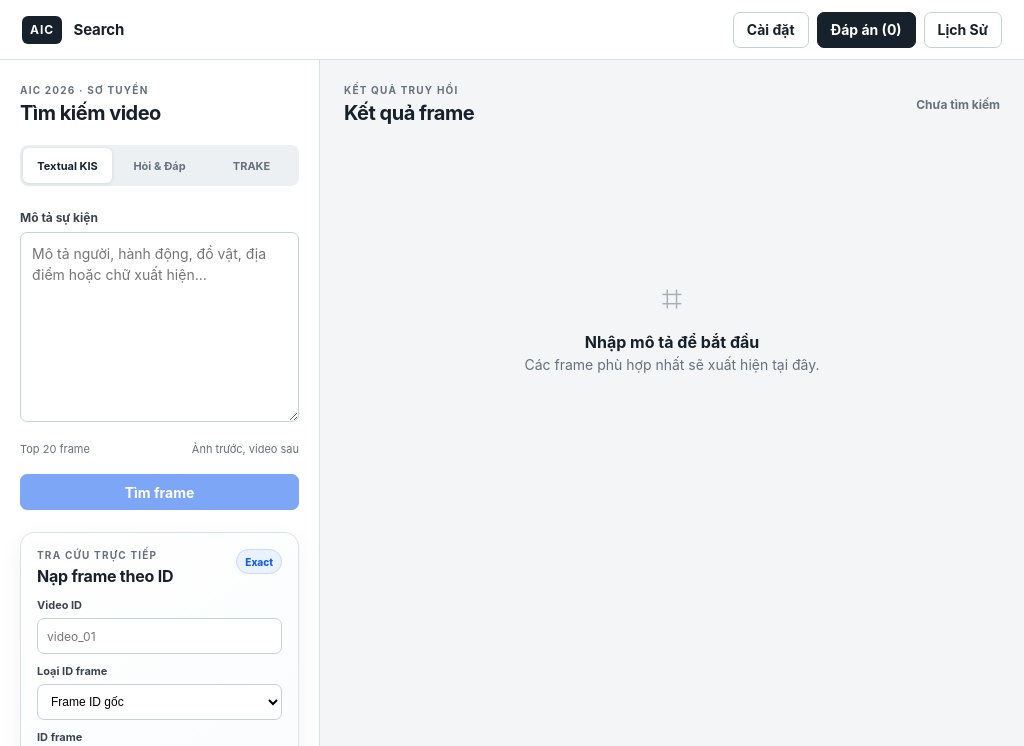
Test: qualification frame-first workbench › keeps a separate workspace when switching between tasks
This screenshot has width=1024, height=746.
Type "Một cửa hàng trên phố" into the text box labelled "Mô tả sự kiện".
click(160, 327); type("Một cửa hàng trên phố")  # box [20,232,299,422]
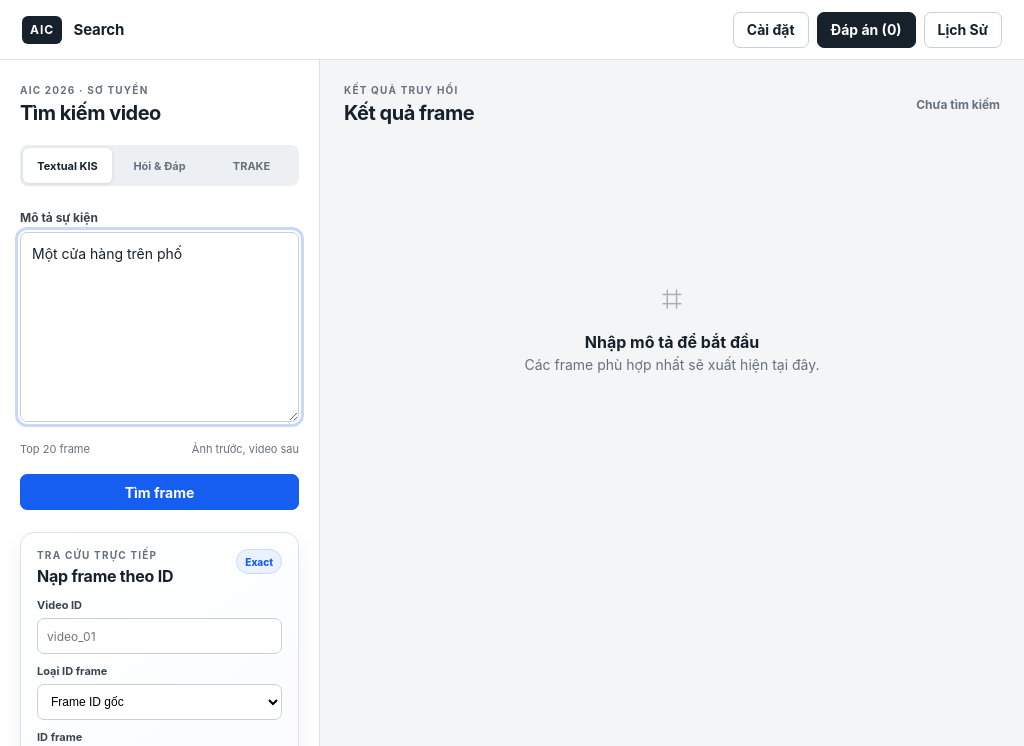
Click the tab "Hỏi & Đáp".
click(160, 166)  # box [115,148,204,183]
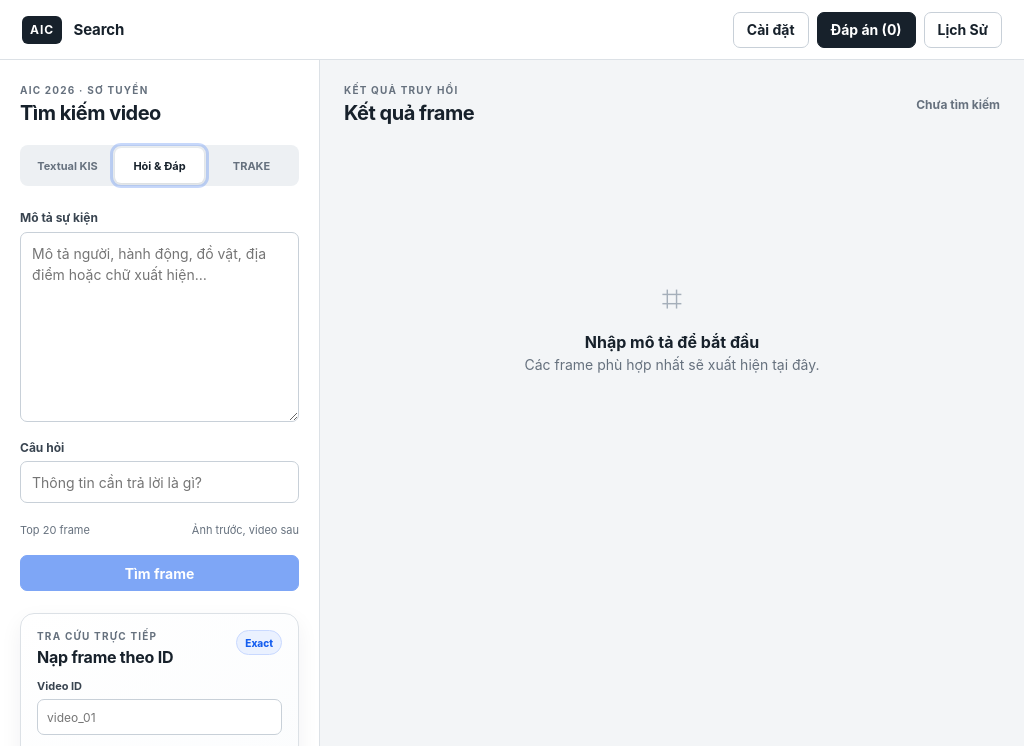
Expected: the text box labelled "Mô tả sự kiện" is empty
Type "Một người đang đi bộ" into the text box labelled "Mô tả sự kiện".
click(160, 327); type("Một người đang đi bộ")  # box [20,232,299,422]
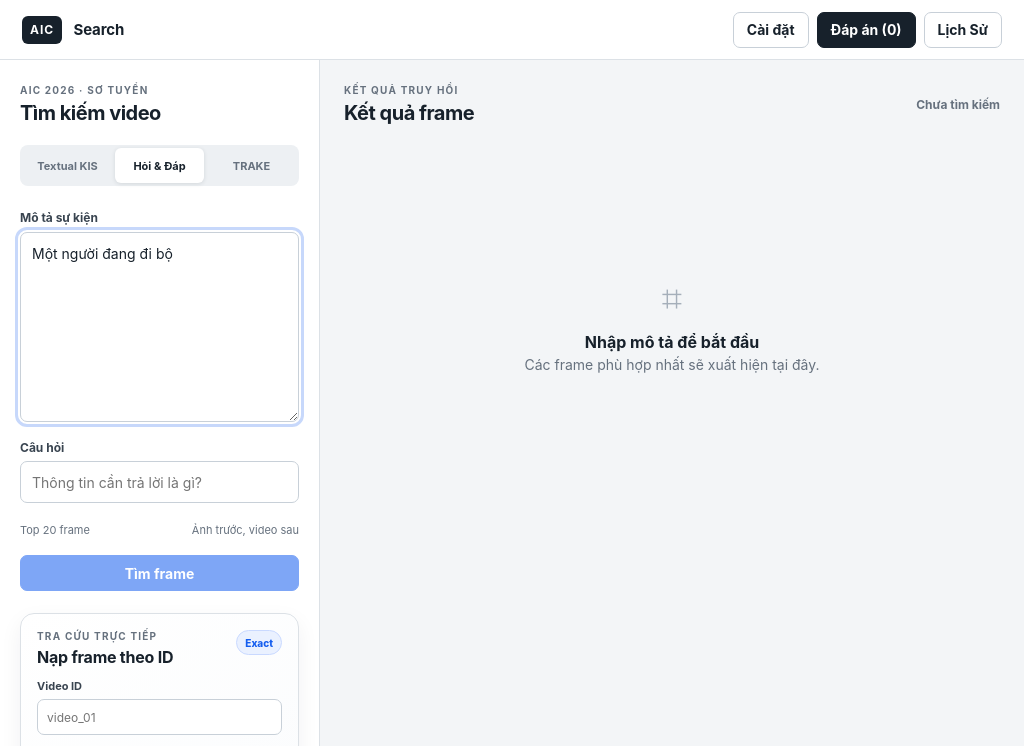
Type "Người đó đang làm gì?" into the field labelled "Câu hỏi".
click(160, 482); type("Người đó đang làm gì?")  # box [20,461,299,503]
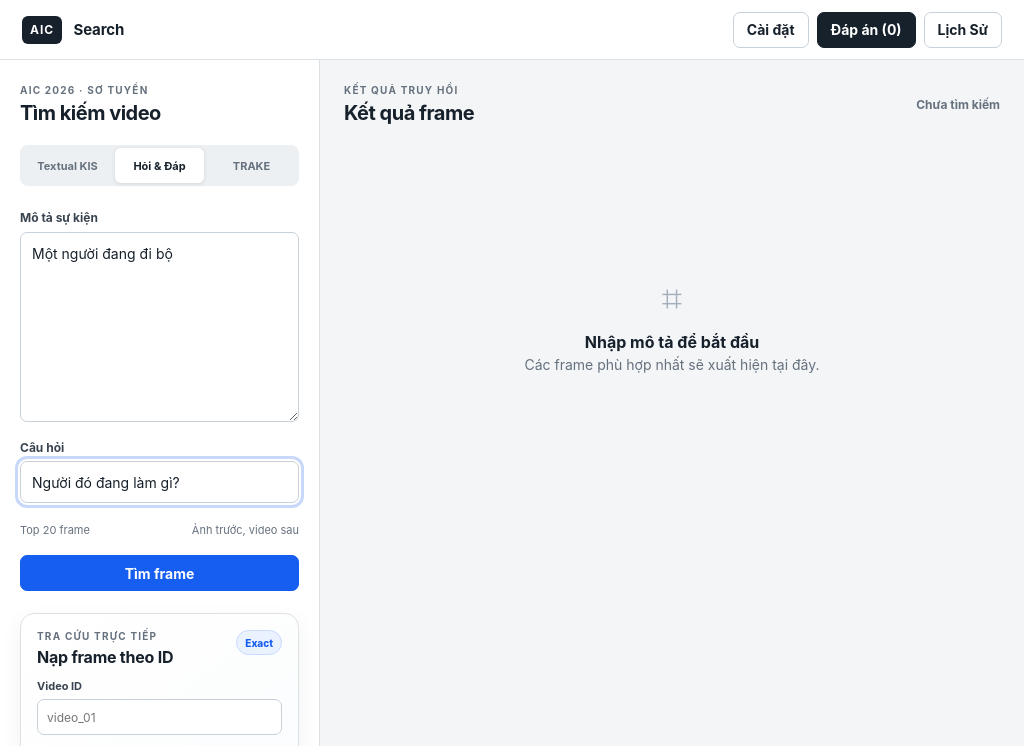
Click the tab "Textual KIS".
click(68, 166)  # box [23,148,112,183]
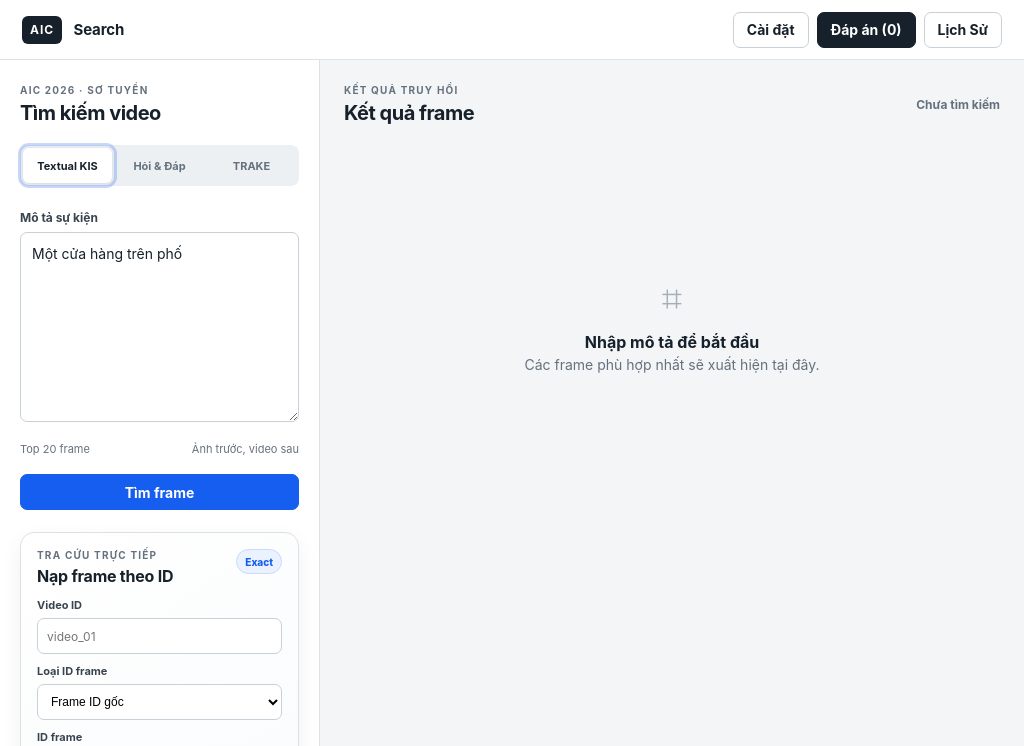
Click the tab "Hỏi & Đáp".
click(160, 166)  # box [115,148,204,183]
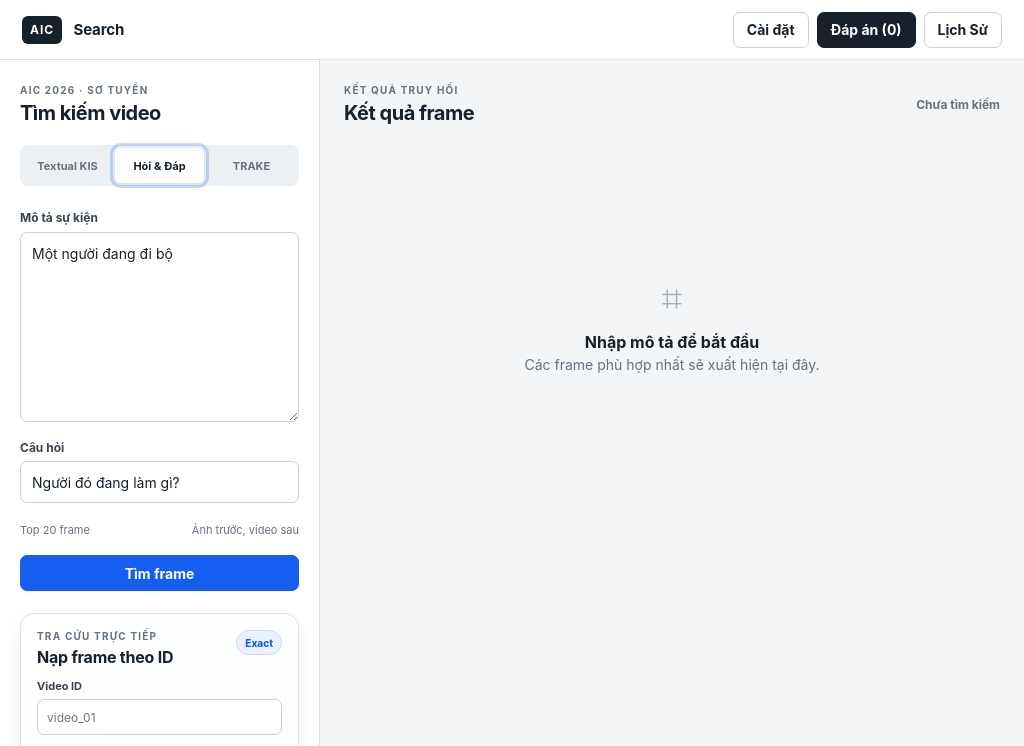
Expected: the field labelled "Câu hỏi" holds "Người đó đang làm gì?", [20,461,299,503]
